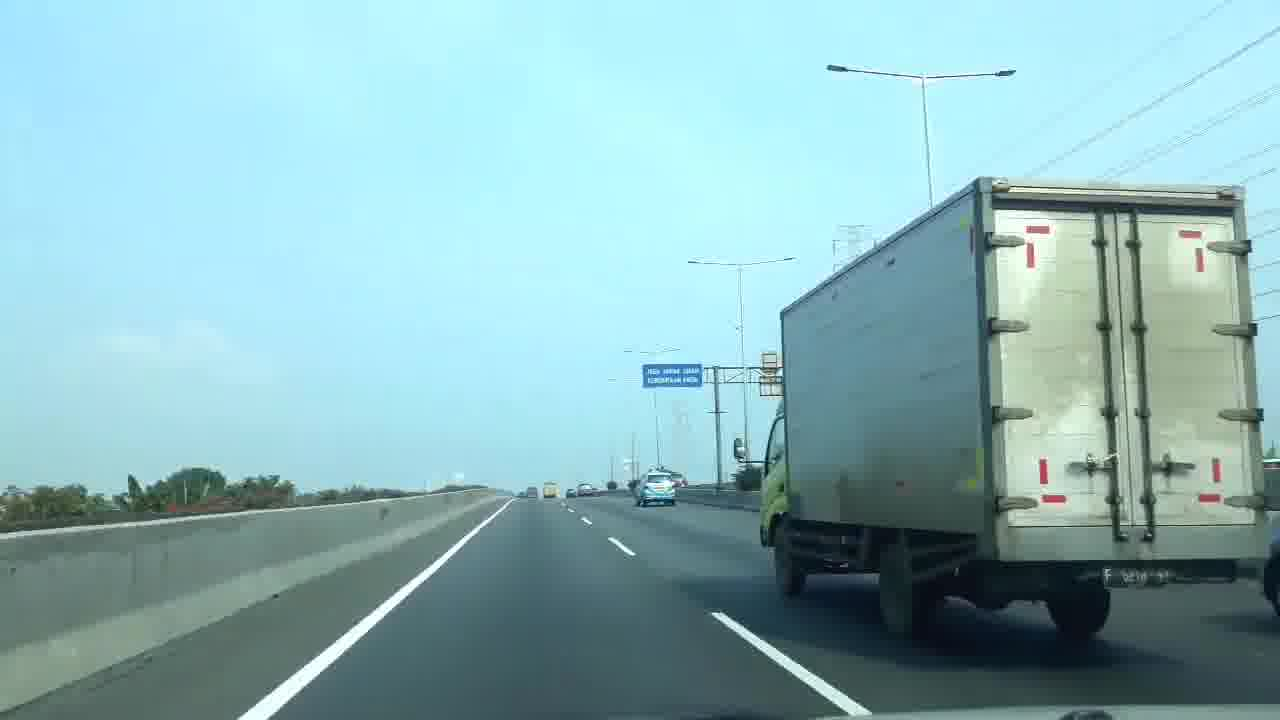plate_positive: (1102, 566, 1168, 590)
